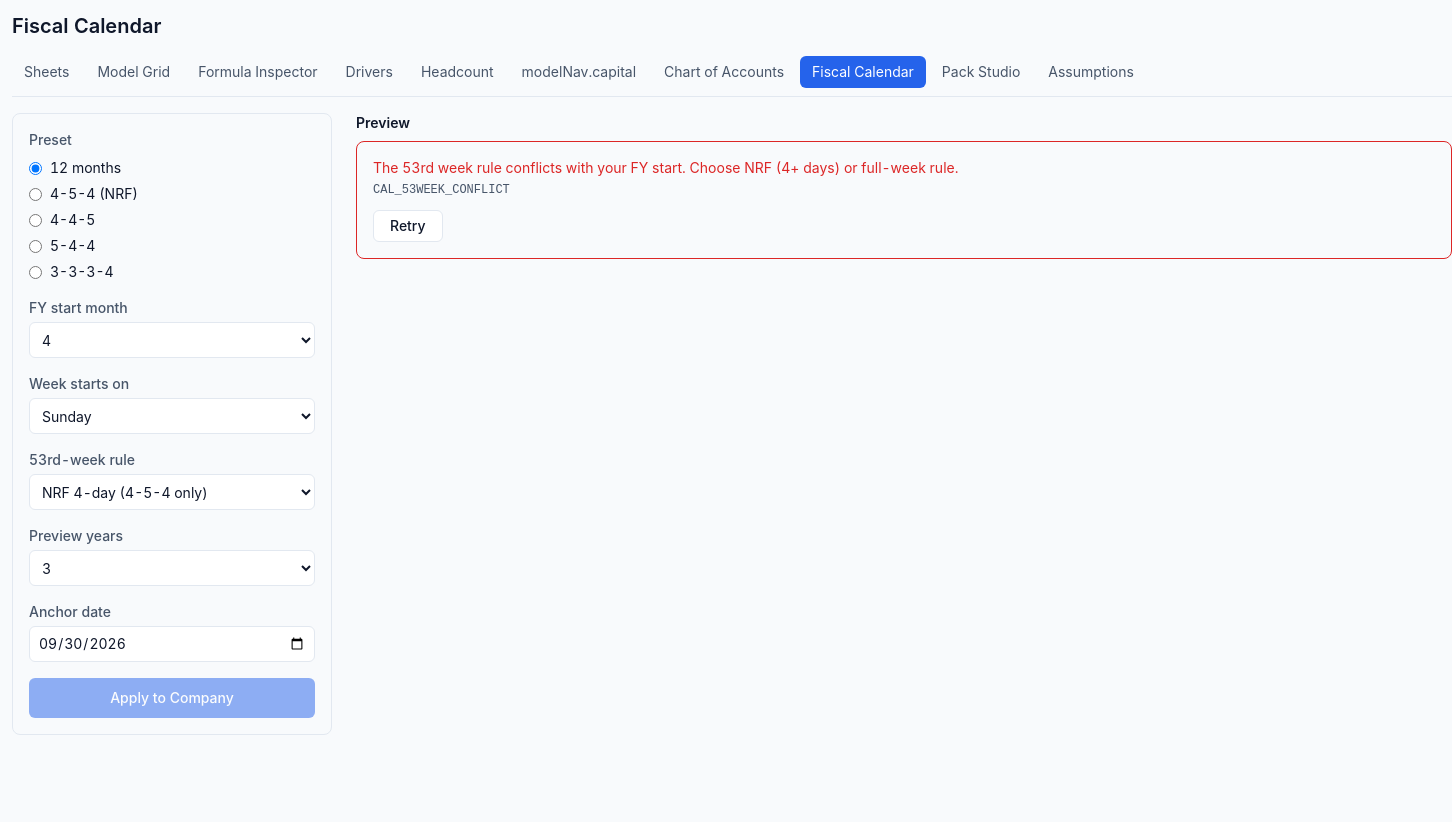
Scenario: S-022 Fiscal Calendar (F-003) › shows a typed preview error with retry (CAL_53WEEK_CONFLICT)
Expected: the text "The 53rd week rule conflicts with your FY start. Choose NRF (4+ days) or full-week rule." is shown, [373,159,958,176]
Expected: the text "CAL_53WEEK_CONFLICT" is shown, [373,183,510,197]
Click the button "Retry".
click(408, 226)  # box [373,210,443,242]
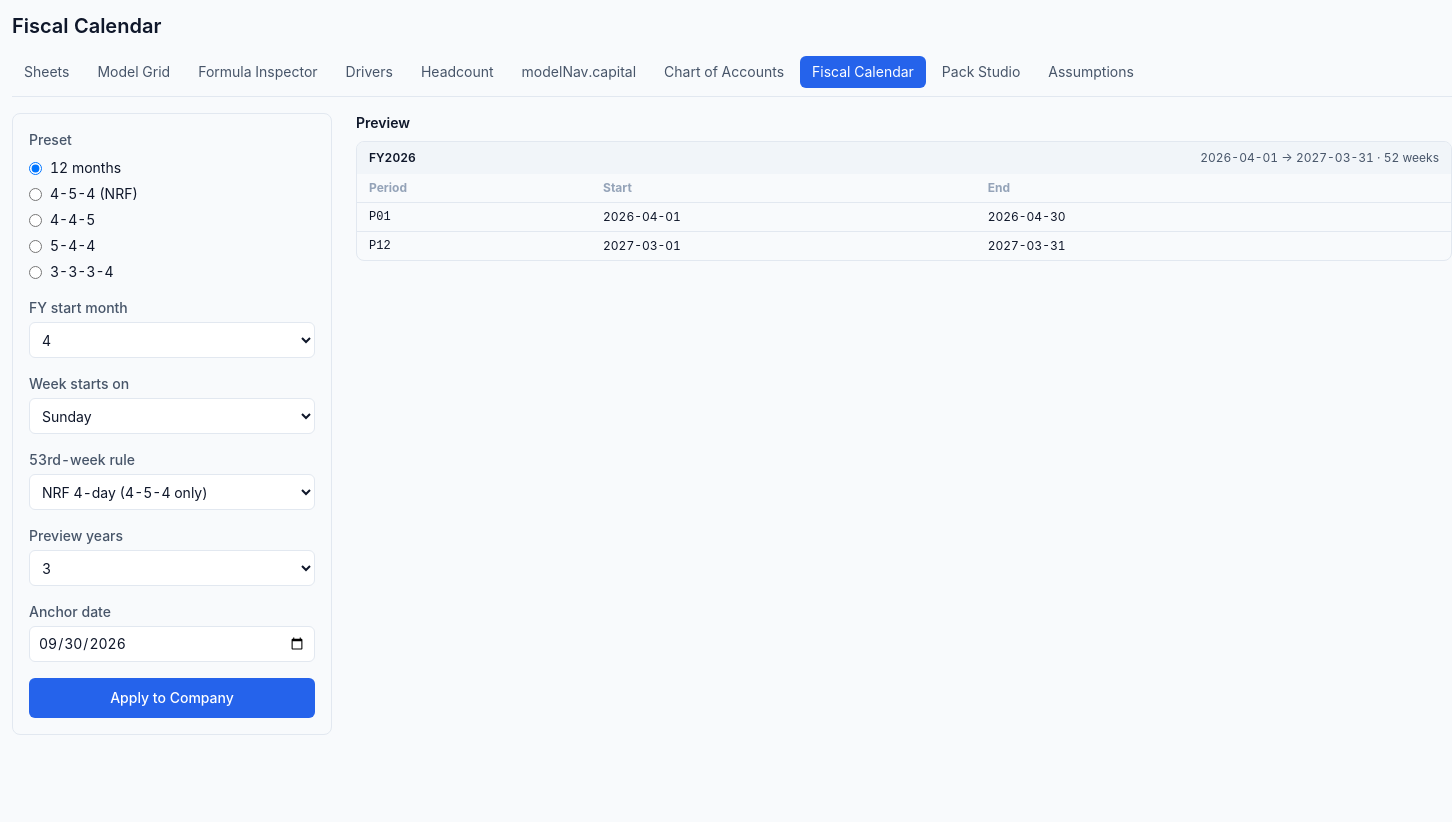
Result: the text "P01" is shown at [357,202,591,232]
